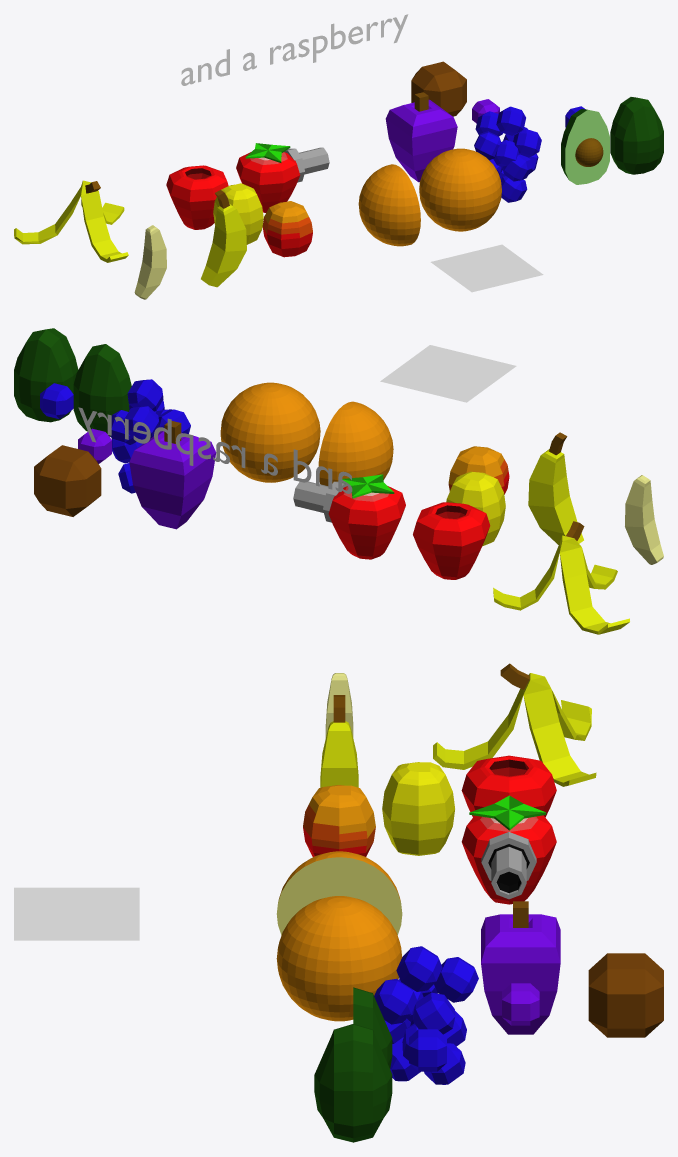
File: Fruits.fbx
3 renders of one model, top to bottom at view 1: azimuth 30°, elevation 25°; view 2: azimuth 150°, elevation 25°; view 3: azimuth 270°, elevation 25°, orthographic. The views are drawn at different scales.
Parts seen in each view (by area): view 1: Orange, Bluberry Cluster, Orange half, Grapes, Avacado, Avacado Half, Plane, Do you see banana man? 3, Strawberry, Raspberry, Do you see banana man?, Mango (+5 smaller); view 2: Orange, Grapes, Strawberry, Orange half, Do you see banana man? 3, Raspberry, Plane, Avacado, Coconut, Avacado Half, Bluberry Cluster, Do you see banana man? (+7 smaller); view 3: Orange, Bluberry Cluster, Grapes, Avacado, Do you see banana man? 3, Plane, Coconut, Lemon, Orange half, Strawberry, Mango, Raspberry (+6 smaller).
Boxes of the visible parts, x1,y1,x2,y2 form: Orange: [419, 148, 501, 231]; Bluberry Cluster: [474, 106, 541, 202]; Orange half: [358, 164, 420, 246]; Grapes: [385, 92, 457, 182]; Avacado: [610, 97, 663, 174]; Avacado Half: [561, 109, 609, 184]; Plane: [430, 244, 543, 292]; Do you see banana man? 3: [14, 180, 128, 262]; Strawberry: [236, 143, 300, 212]; Raspberry: [166, 165, 228, 229]; Do you see banana man?: [201, 190, 246, 287]; Mango: [262, 201, 312, 257]; Orange: [220, 382, 320, 482]; Grapes: [129, 421, 216, 529]; Strawberry: [328, 474, 405, 559]; Orange half: [318, 401, 393, 485]; Do you see banana man? 3: [493, 521, 629, 634]; Raspberry: [413, 502, 490, 579]; Plane: [380, 345, 516, 402]; Avacado: [14, 328, 78, 422]; Coconut: [34, 445, 101, 516]; Avacado Half: [73, 344, 131, 436]; Bluberry Cluster: [110, 379, 190, 493]; Do you see banana man?: [528, 432, 583, 544]; Orange: [276, 896, 402, 1021]; Bluberry Cluster: [374, 946, 478, 1084]; Grapes: [481, 901, 560, 1034]; Avacado: [314, 1024, 392, 1142]; Do you see banana man? 3: [433, 663, 596, 786]; Plane: [14, 887, 139, 940]; Coconut: [588, 953, 663, 1037]; Lemon: [382, 762, 454, 855]; Orange half: [276, 851, 402, 935]; Strawberry: [461, 795, 556, 904]; Mango: [303, 785, 375, 856]; Raspberry: [461, 755, 556, 817].
Bounding box in the file's own units: 1600 × 369 × 1035.
